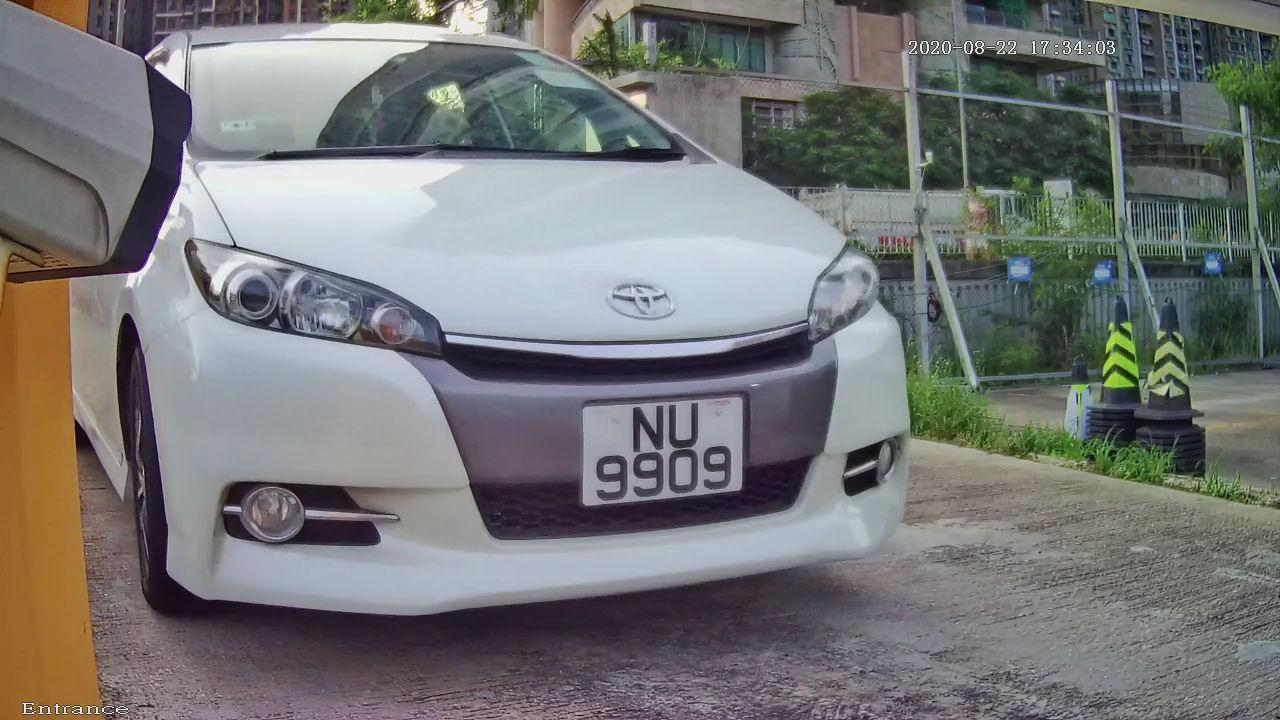License Plate: (566, 370, 755, 518)
